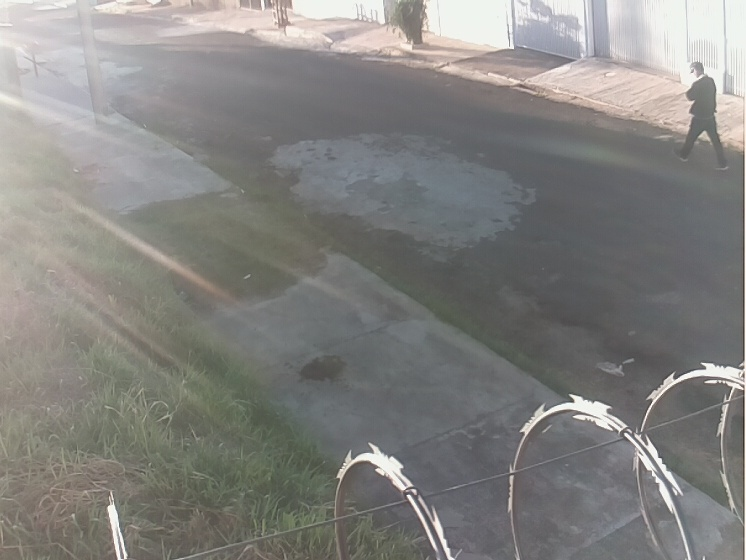person: (674, 61, 729, 171)
